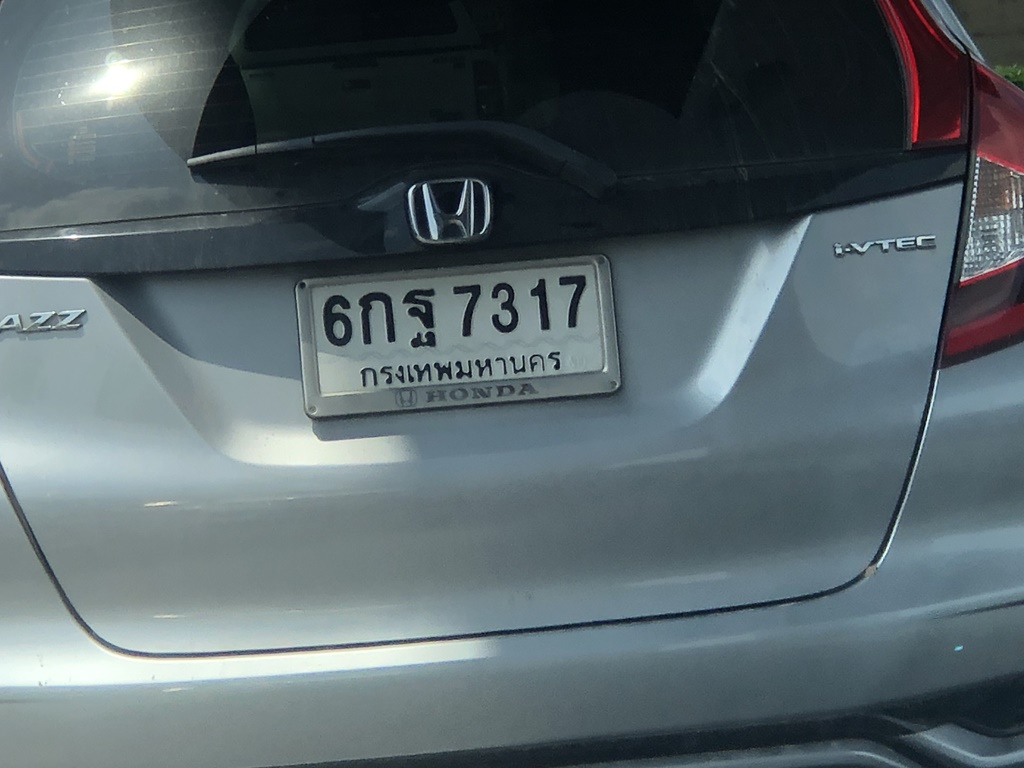one: (519, 274, 560, 340)
seven: (553, 269, 599, 344), (445, 277, 492, 342)
six: (306, 287, 355, 358)
three: (485, 276, 524, 344)
